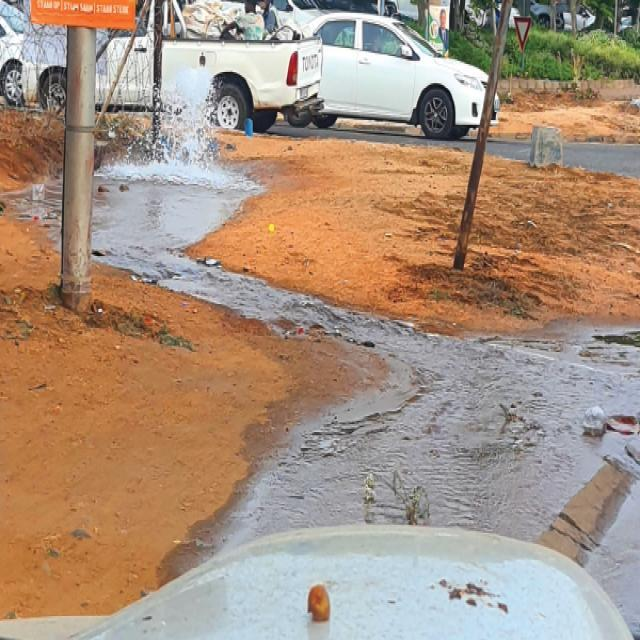water_leak: (390, 338, 640, 556), (103, 83, 270, 281)
